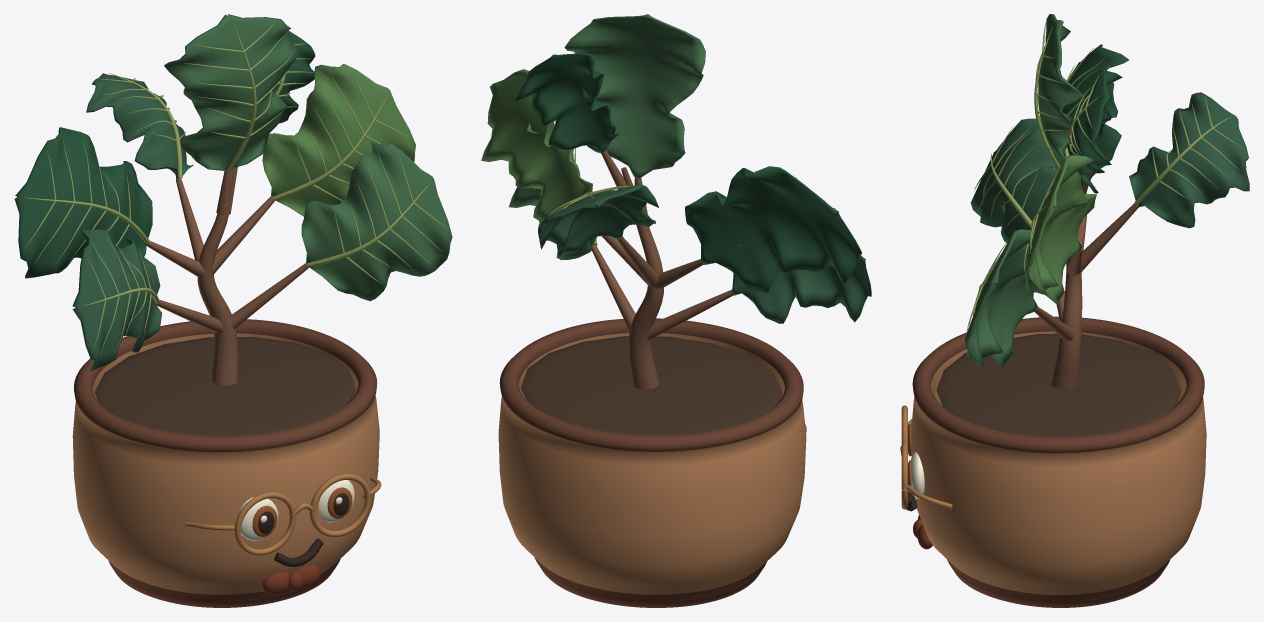
The model's file is ficus-v1.glb.
The picture shows the model from 3 angles, left to right: view 1: azimuth 30°, elevation 25°; view 2: azimuth 150°, elevation 25°; view 3: azimuth 270°, elevation 25°; orthographic projection.
Visible parts, largest first — view 1: Wheel-thrown ceramic, Soil, Lower right, Upper center, Mid left, Mid right, Lower left, Rearmost, Tapered, gently leaning trunk, Upper right, Round spectacles 0, Round spectacles 1 (+10 smaller); view 2: Wheel-thrown ceramic, Soil, Mid left, Upper center, Mid right, Upper right, Rearmost, Lower left, Tapered, gently leaning trunk, Lower left woody petiole, Lower right, Lower right woody petiole (+2 smaller); view 3: Wheel-thrown ceramic, Soil, Rearmost, Lower left, Mid right, Lower right, Upper center, Upper right, Mid left, Tapered, gently leaning trunk, Rearmost woody petiole, Upper center midrib (+3 smaller).
Part boxes in pixels (x1=…): Wheel-thrown ceramic: x1=72, y1=319, x2=379, y2=607; Soil: x1=95, y1=336, x2=355, y2=435; Lower right: x1=301, y1=141, x2=452, y2=301; Upper center: x1=164, y1=14, x2=298, y2=170; Mid left: x1=14, y1=127, x2=152, y2=278; Mid right: x1=262, y1=64, x2=415, y2=216; Lower left: x1=72, y1=229, x2=162, y2=371; Rearmost: x1=86, y1=73, x2=193, y2=180; Tapered, gently leaning trunk: x1=197, y1=168, x2=238, y2=385; Upper right: x1=271, y1=31, x2=315, y2=123; Round spectacles 0: x1=234, y1=492, x2=295, y2=555; Round spectacles 1: x1=310, y1=474, x2=371, y2=536; Wheel-thrown ceramic: x1=498, y1=318, x2=806, y2=607; Soil: x1=521, y1=336, x2=781, y2=435; Mid left: x1=685, y1=166, x2=861, y2=293; Upper center: x1=564, y1=14, x2=705, y2=178; Mid right: x1=481, y1=69, x2=592, y2=220; Upper right: x1=515, y1=53, x2=619, y2=152; Rearmost: x1=538, y1=184, x2=658, y2=257; Lower left: x1=732, y1=244, x2=871, y2=323; Tapered, gently leaning trunk: x1=621, y1=167, x2=663, y2=389; Lower left woody petiole: x1=647, y1=289, x2=734, y2=339; Lower right: x1=509, y1=123, x2=596, y2=260; Lower right woody petiole: x1=590, y1=244, x2=635, y2=331; Wheel-thrown ceramic: x1=911, y1=316, x2=1206, y2=607; Soil: x1=936, y1=334, x2=1180, y2=436; Rearmost: x1=1129, y1=92, x2=1249, y2=228; Lower left: x1=970, y1=118, x2=1058, y2=242; Mid right: x1=1026, y1=155, x2=1097, y2=304; Lower right: x1=965, y1=229, x2=1043, y2=367; Upper center: x1=1038, y1=14, x2=1083, y2=169; Upper right: x1=1072, y1=68, x2=1122, y2=193; Mid left: x1=1055, y1=44, x2=1128, y2=193; Tapered, gently leaning trunk: x1=1051, y1=239, x2=1082, y2=389; Rearmost woody petiole: x1=1080, y1=203, x2=1138, y2=272; Upper center midrib: x1=1034, y1=26, x2=1060, y2=170.
Size of the model in its own units: 2.21 by 2.98 by 1.73.
